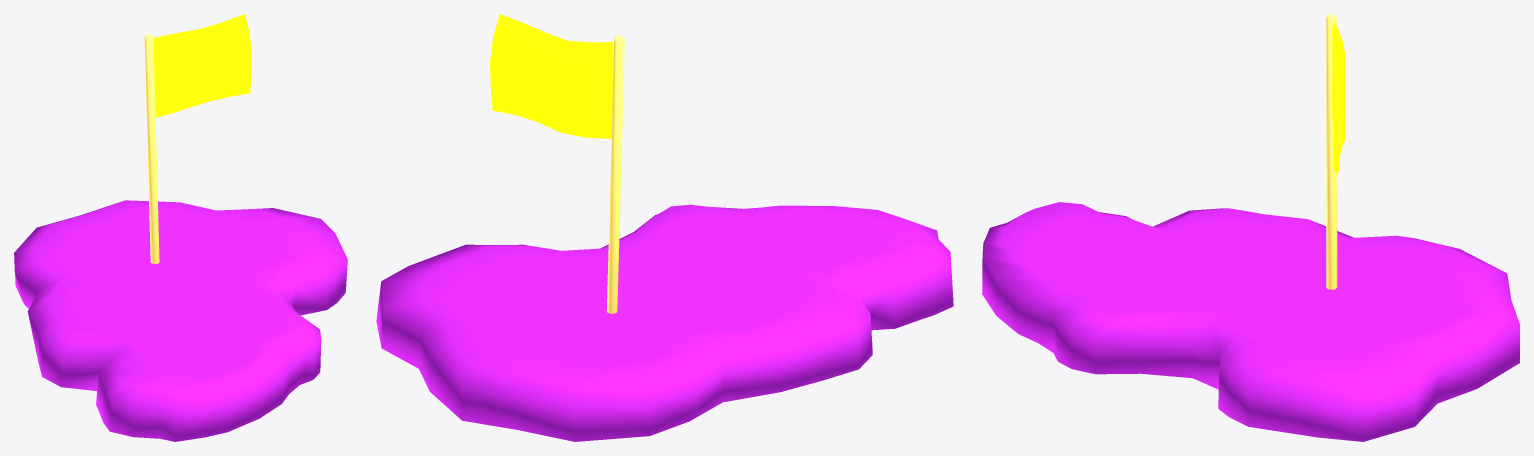
Rendered from Home Country.gltf.
3 views of the same model, side by side, from view 1: azimuth 30°, elevation 25°; view 2: azimuth 150°, elevation 25°; view 3: azimuth 270°, elevation 25° (orthographic). The views are drawn at different scales.
Visible parts, largest first — view 1: country; view 2: country; view 3: country.
Part boxes in pixels (x1,y1,x2,y2): country: (14,14,347,441); country: (376,14,953,441); country: (982,14,1519,441).
Bounding box in the file's own units: 12.47 × 9.36 × 14.29.
